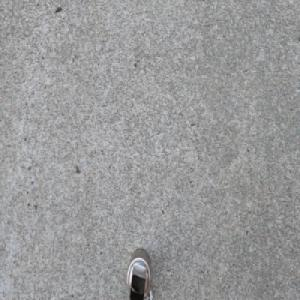MetalPart: (124, 246, 154, 300)
